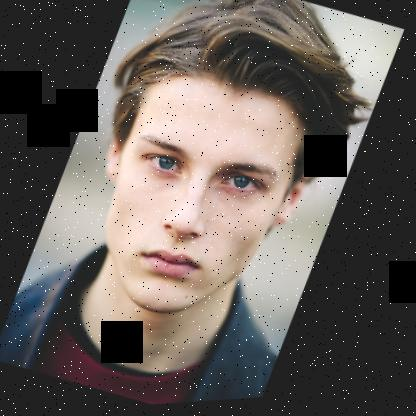Male: (57, 53, 337, 351)
